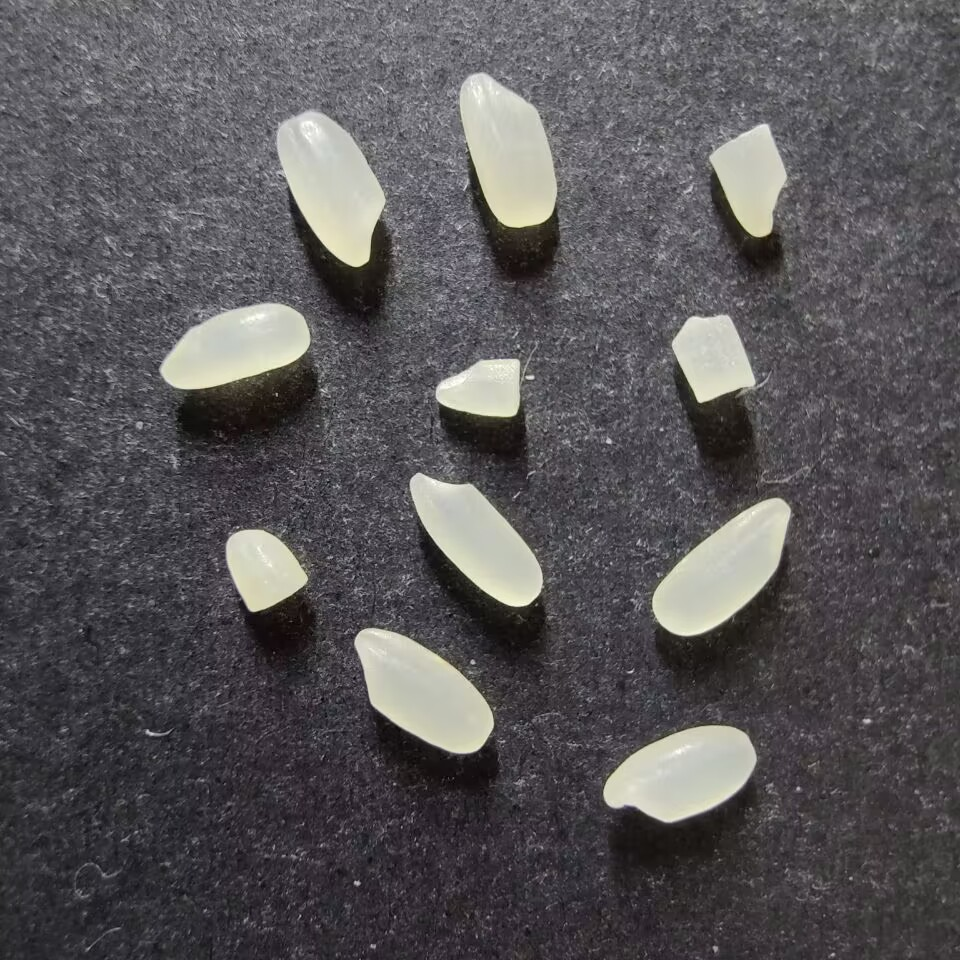broken: (708, 122, 787, 237), (670, 313, 756, 403), (224, 529, 307, 613), (433, 357, 521, 418)
rice: (650, 497, 792, 637), (408, 471, 544, 608), (353, 627, 494, 755), (275, 109, 387, 269), (602, 724, 758, 824), (458, 72, 557, 228), (159, 301, 311, 391)
